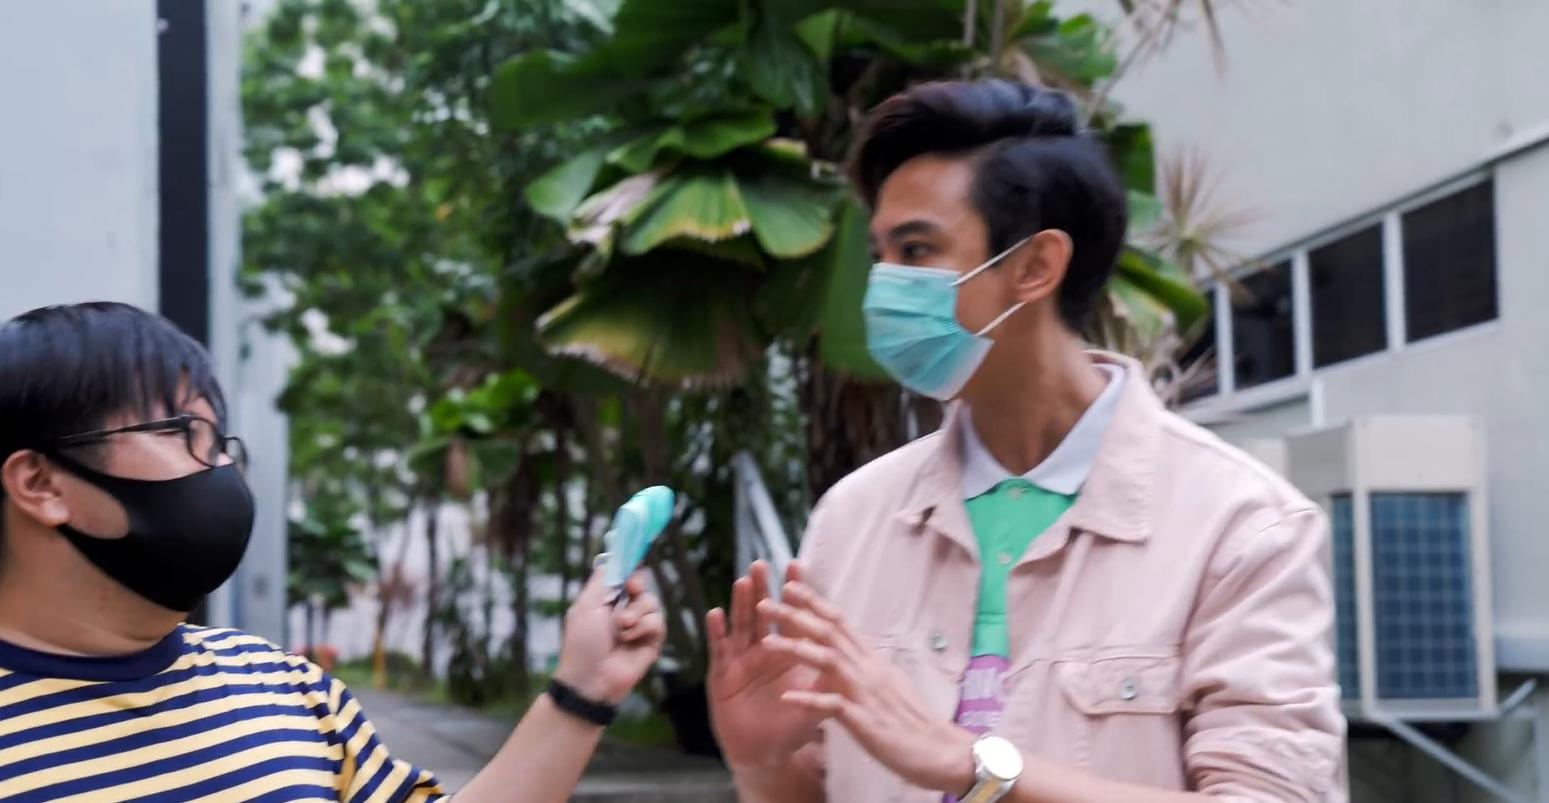with_mask: (88, 438, 226, 570), (886, 212, 983, 375)
